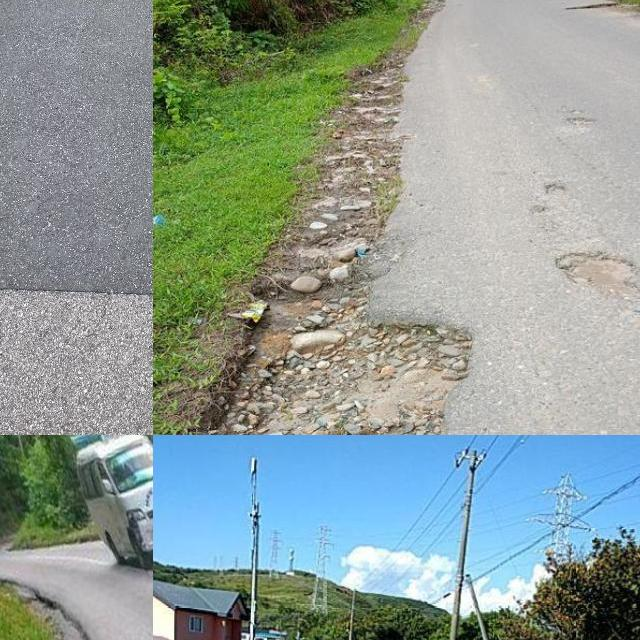Lubang: (547, 249, 640, 299)
Pinggir: (228, 50, 486, 435)
Sambungan: (0, 0, 153, 298)
